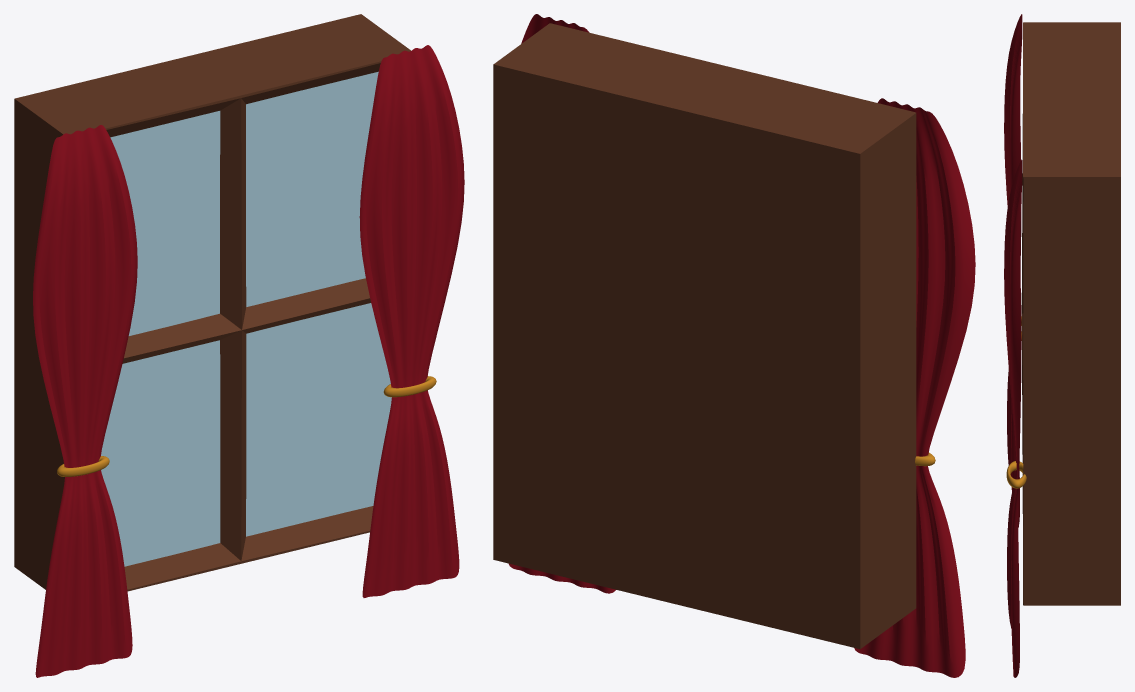
Rendered from M_FenetreAvecRideaux.fbx.
3 views of the same model, side by side, from view 1: azimuth 30°, elevation 25°; view 2: azimuth 150°, elevation 25°; view 3: azimuth 270°, elevation 25° (orthographic). The views are drawn at different scales.
Parts seen in each view (by area): view 1: Cube.014; view 2: Cube.014; view 3: Cube.014.
Boxes of the visible parts, x1=… form: Cube.014: x1=14, y1=14, x2=464, y2=677; Cube.014: x1=493, y1=14, x2=975, y2=677; Cube.014: x1=1004, y1=14, x2=1120, y2=677.
Size of the model in its own units: 789 by 913 by 198.
